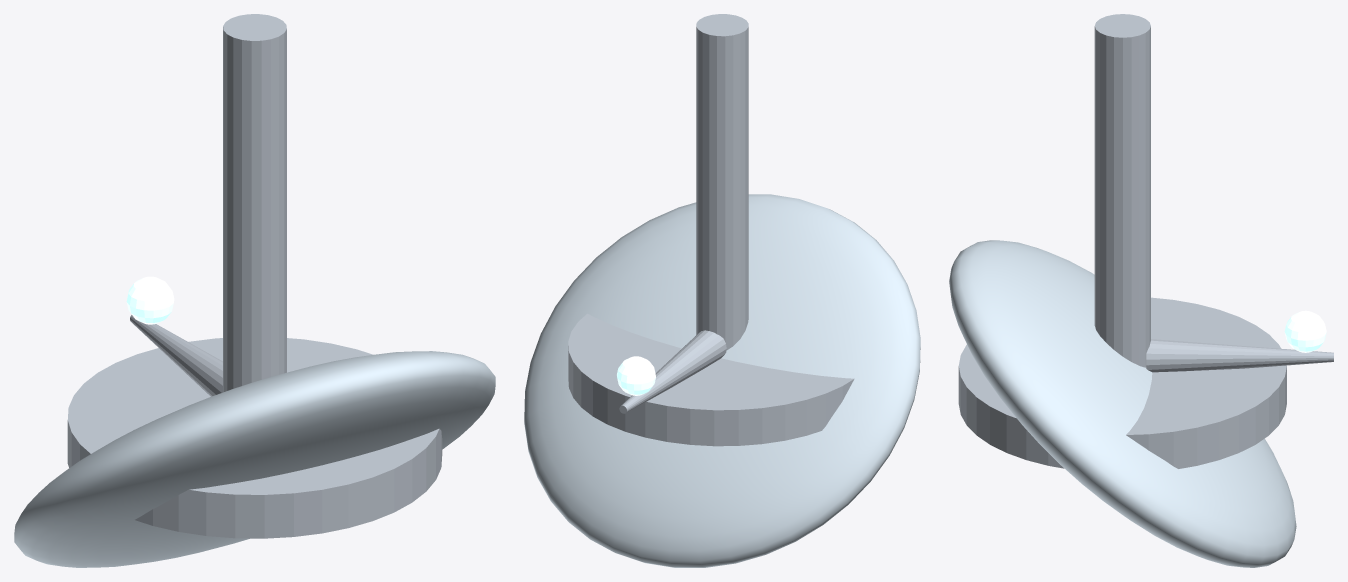
Rendered from radar.glb.
3 renders of one model, left to right at view 1: azimuth 30°, elevation 25°; view 2: azimuth 150°, elevation 25°; view 3: azimuth 270°, elevation 25°, orthographic. The views are drawn at different scales.
Visible parts, largest first — view 1: Sphere, Cylinder, Cylinder.001, Cone, Sphere.001; view 2: Sphere, Cylinder, Cylinder.001, Cone, Sphere.001; view 3: Sphere, Cylinder, Cylinder.001, Cone, Sphere.001.
Part boxes in pixels (<box>): Sphere: <box>14,351,495,567</box>; Cylinder: <box>67,338,442,538</box>; Cylinder.001: <box>223,14,286,392</box>; Cone: <box>130,315,222,396</box>; Sphere.001: <box>126,276,174,324</box>; Sphere: <box>524,194,920,567</box>; Cylinder: <box>568,313,854,446</box>; Cylinder.001: <box>696,14,748,349</box>; Cone: <box>619,330,726,413</box>; Sphere.001: <box>617,356,655,395</box>; Sphere: <box>949,240,1296,567</box>; Cylinder: <box>958,297,1286,468</box>; Cylinder.001: <box>1094,14,1150,367</box>; Cone: <box>1146,339,1333,372</box>; Sphere.001: <box>1284,310,1326,352</box>.
Bounding box in the file's own units: 1.9 × 2.41 × 1.64.
